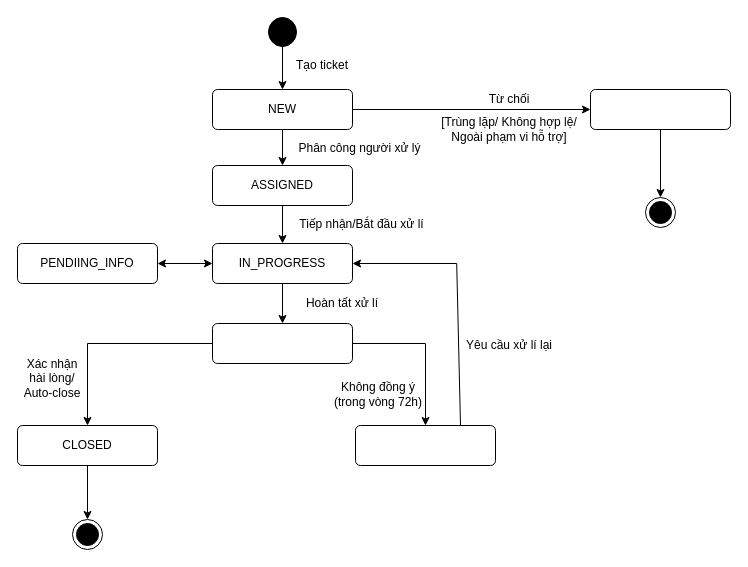
The diagram is 748 pixels wide and 567 high, and some of its shapes have lost their labels. Here are the shapes that lost their labels. From the top down, the centre of each, then its label:
At point 660,109: "REJECTED".
At point 282,343: "RESOLVED".
At point 425,445: "REOPENED".
